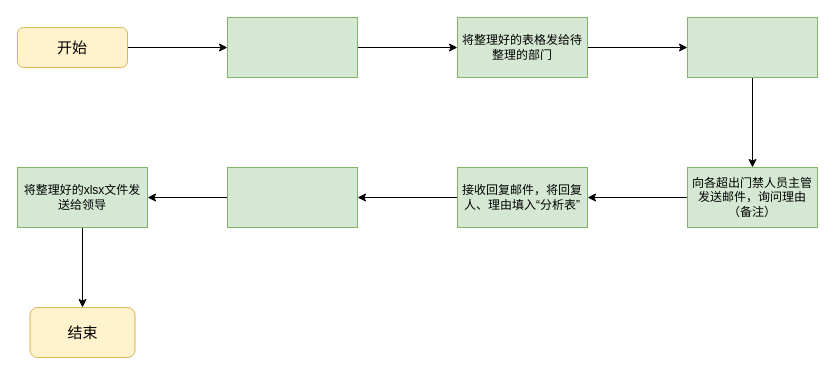
Image size: 835x375. Some labels were removed from this diagram. The centre of each missing label's shape, as x and y in pixels:
"助理整理好一周的门禁数据，存入电子表格" goes at pixel 292 47.
"新建“整理表”，里面包含部门、岗位、次数、理由。最后一栏为进出的总次数" goes at pixel 292 197.
"部门在“分析表”的基础上新增姓名、岗位、回复人、备注。" goes at pixel 752 47.
